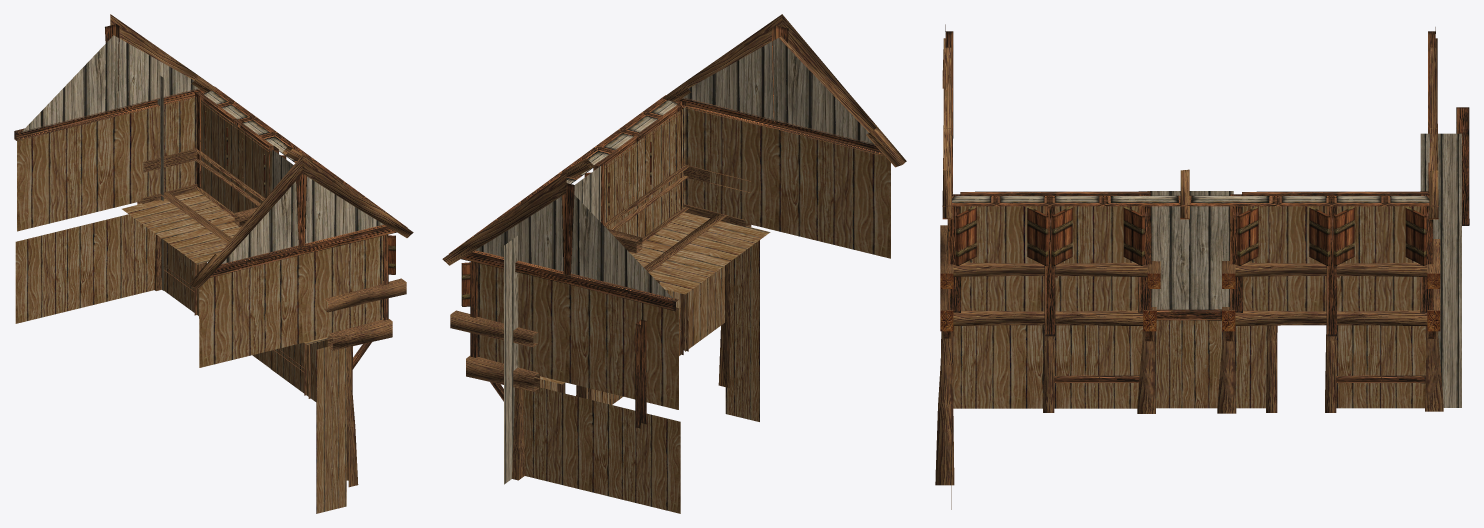
File: LAKETOWN_EXTERIOR_PS_LT_LONGHOUSE9786__GX.fbx
3 renders of one model, left to right at view 1: azimuth 30°, elevation 25°; view 2: azimuth 150°, elevation 25°; view 3: azimuth 270°, elevation 25°, orthographic. The views are drawn at different scales.
Parts seen in each view (by area): view 1: LAKETOWN_EXTERIOR_PS_LT_LONGHOUSE9786__GX; view 2: LAKETOWN_EXTERIOR_PS_LT_LONGHOUSE9786__GX; view 3: LAKETOWN_EXTERIOR_PS_LT_LONGHOUSE9786__GX.
Part boxes in pixels (left/top/right/bottom): LAKETOWN_EXTERIOR_PS_LT_LONGHOUSE9786__GX: left=14, top=14, right=413, bottom=513; LAKETOWN_EXTERIOR_PS_LT_LONGHOUSE9786__GX: left=442, top=14, right=906, bottom=513; LAKETOWN_EXTERIOR_PS_LT_LONGHOUSE9786__GX: left=935, top=24, right=1469, bottom=509.
Size of the model in its own units: 75067 by 118526 by 121959.
Materials: 9 (9 with a texture image).
